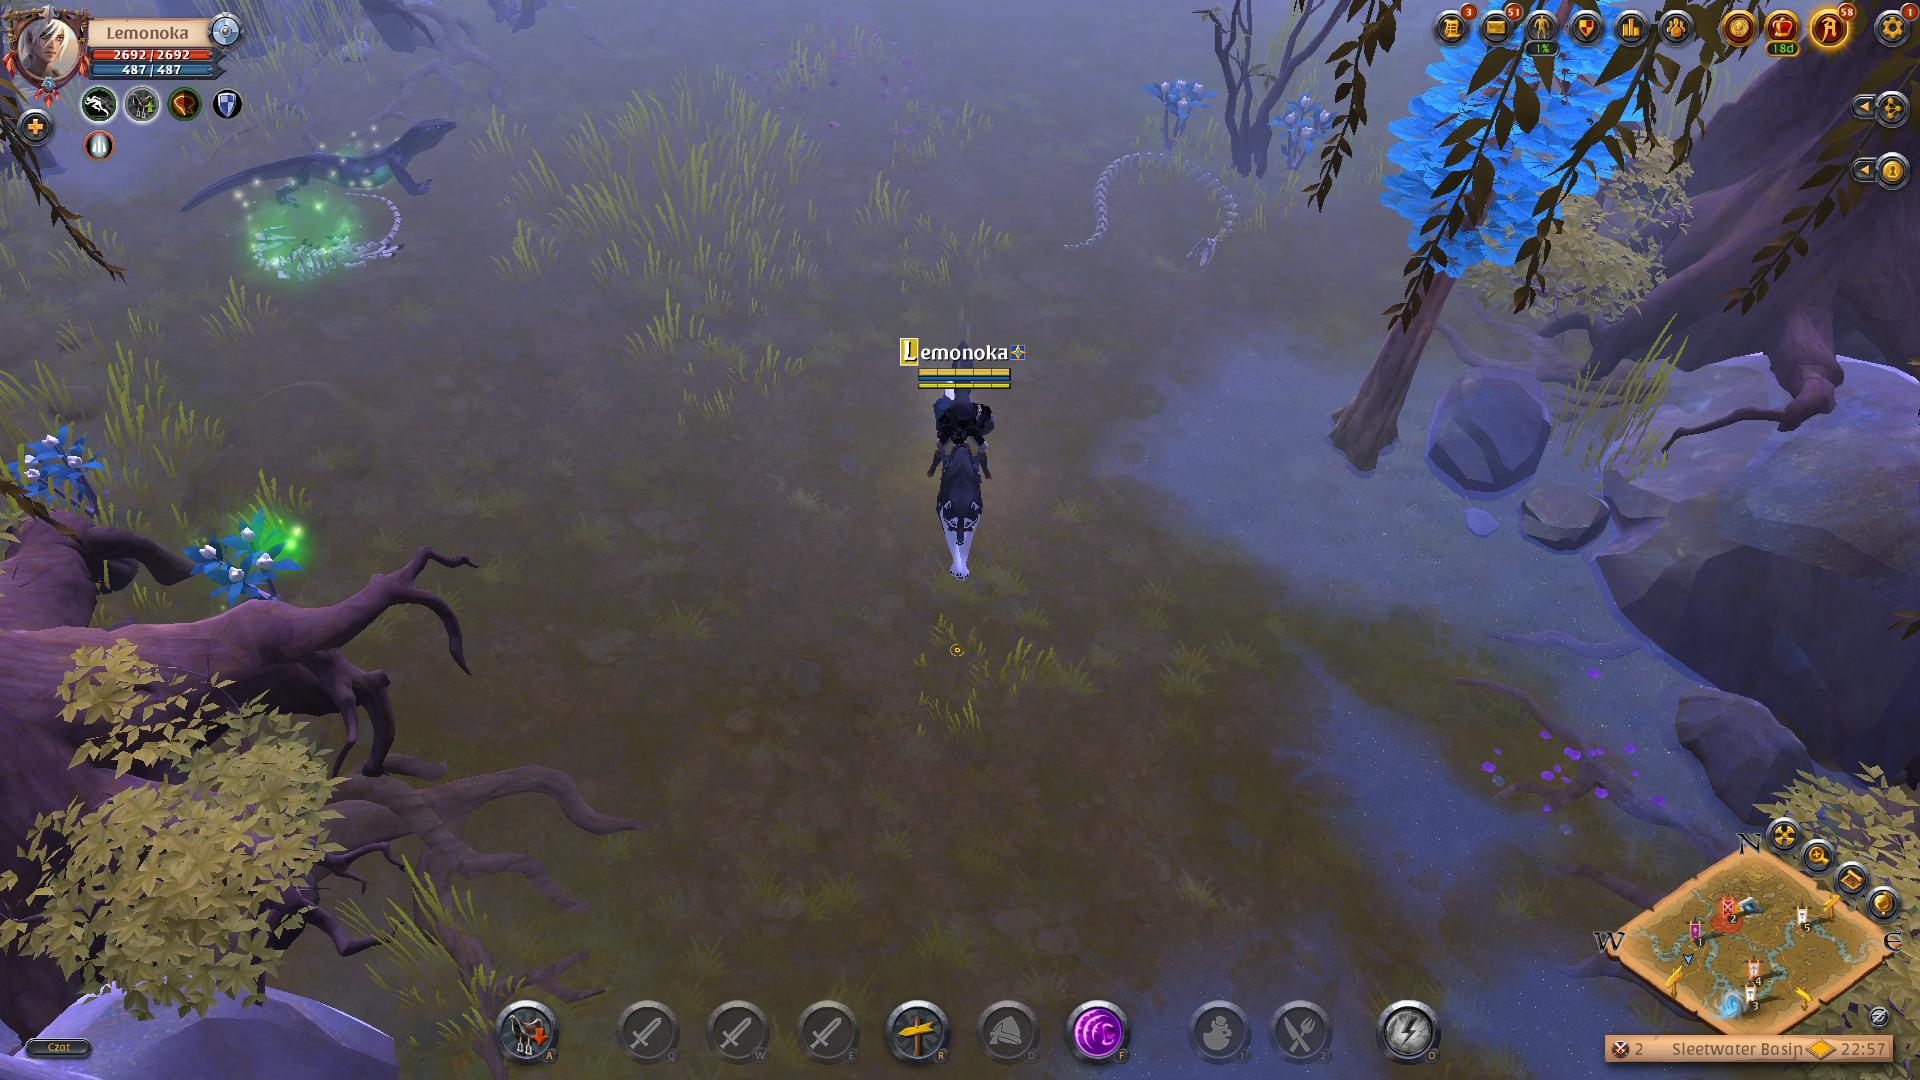fiber tier 4: (179, 505, 307, 613), (12, 422, 107, 516), (1271, 95, 1335, 177), (1145, 71, 1211, 148)
